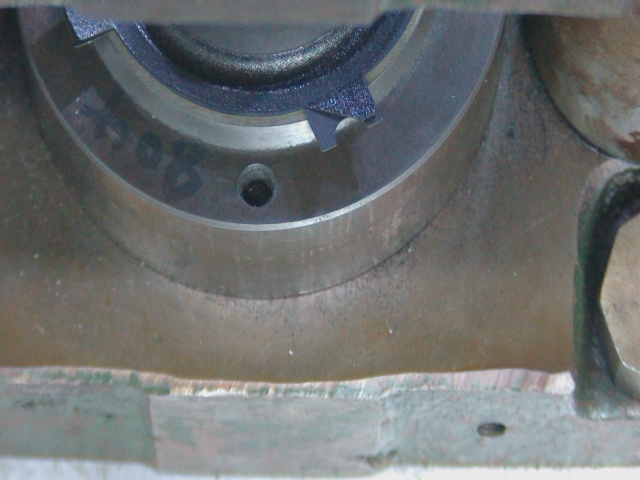OK: (302, 70, 391, 160)
